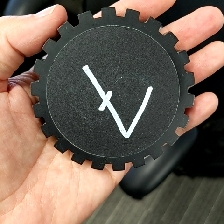gear: (29, 5, 196, 172)
